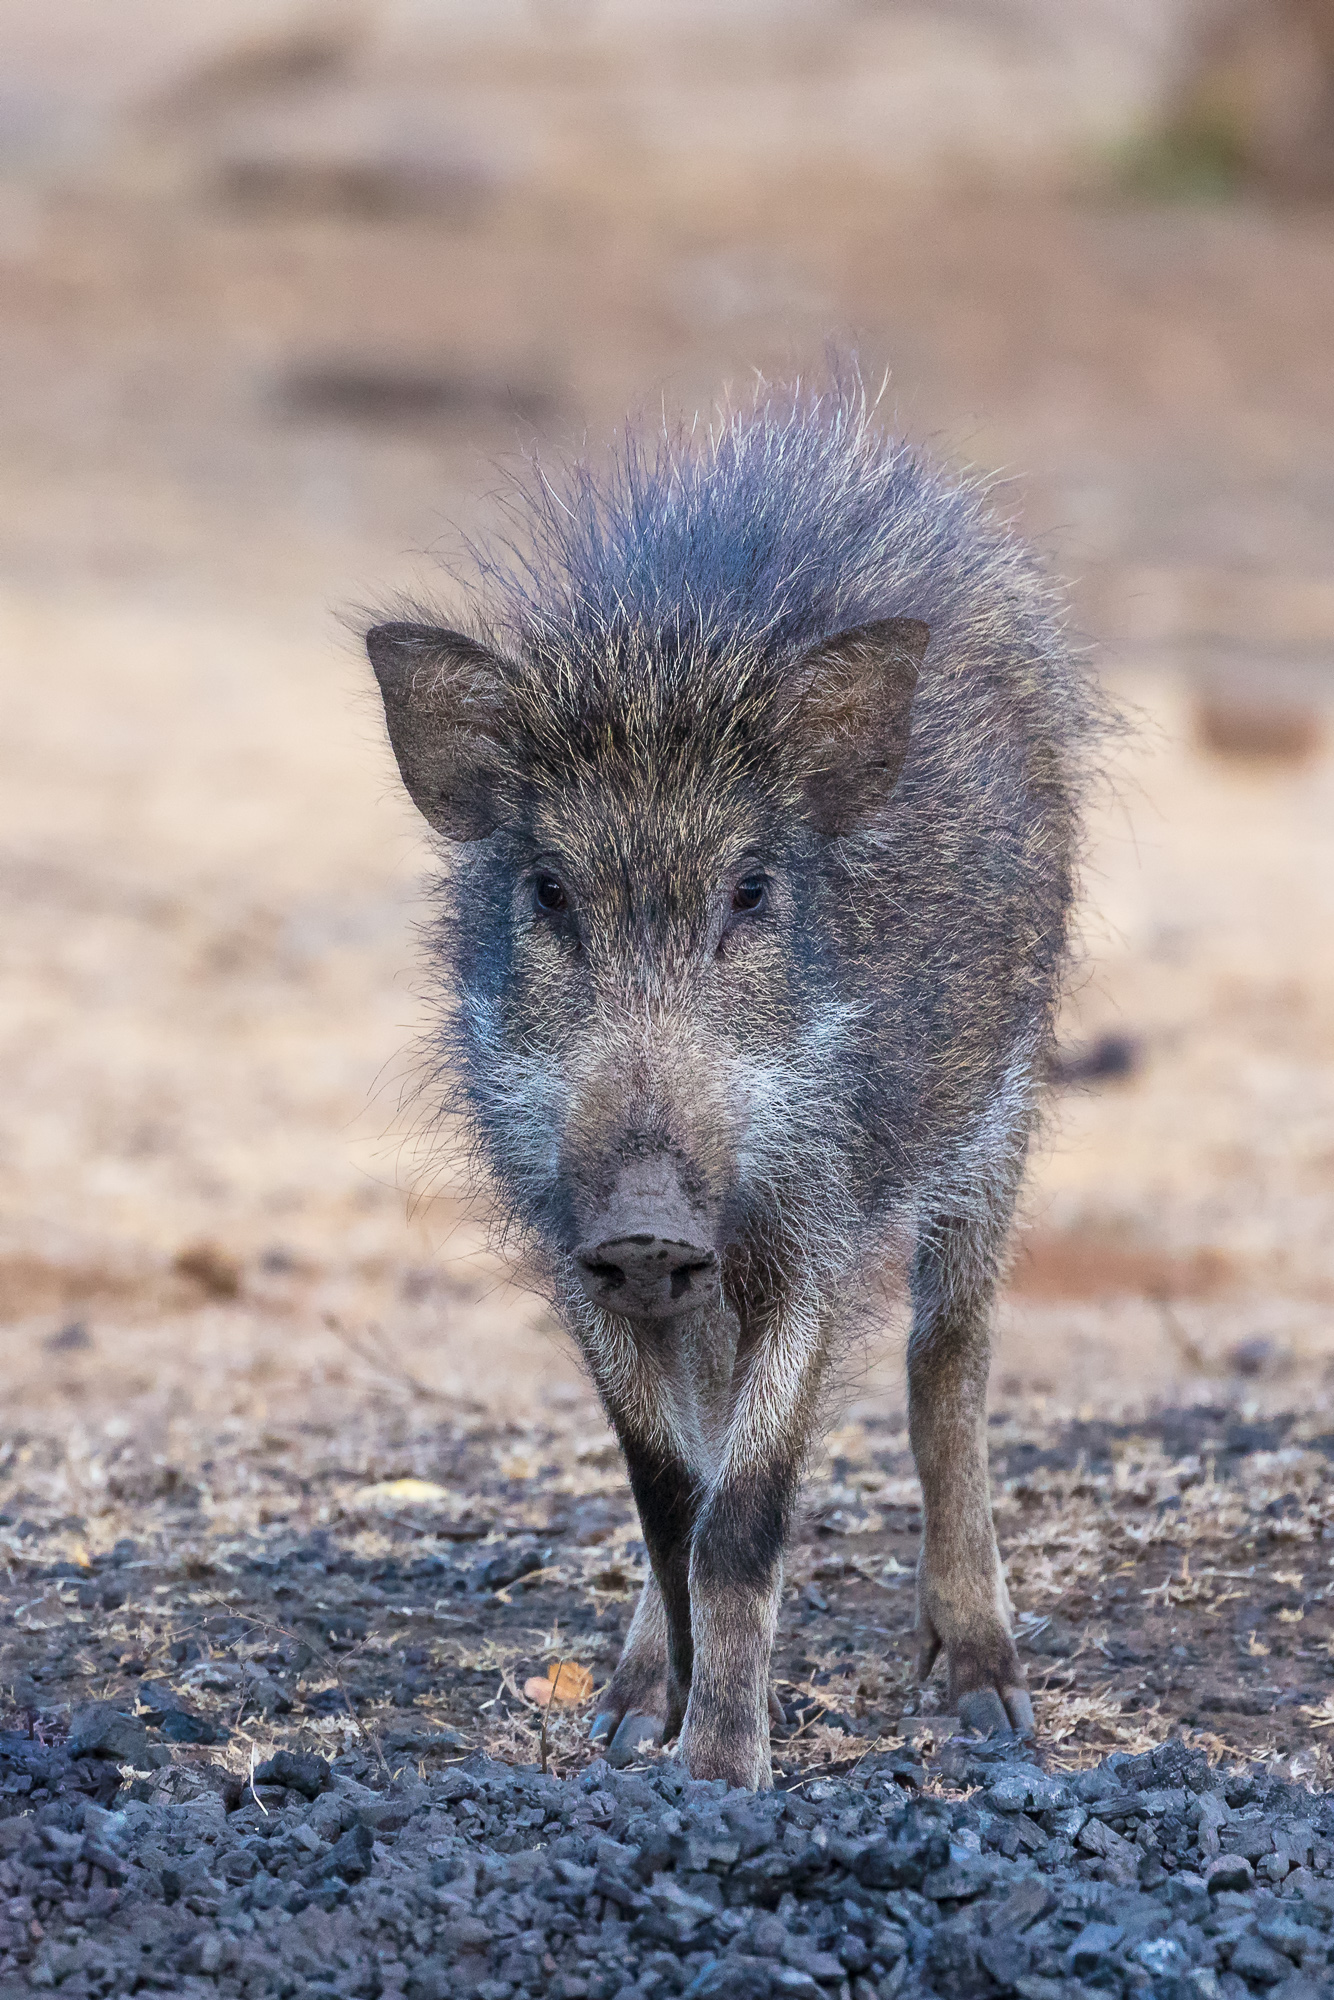wild boar: (328, 385, 1102, 1808)
